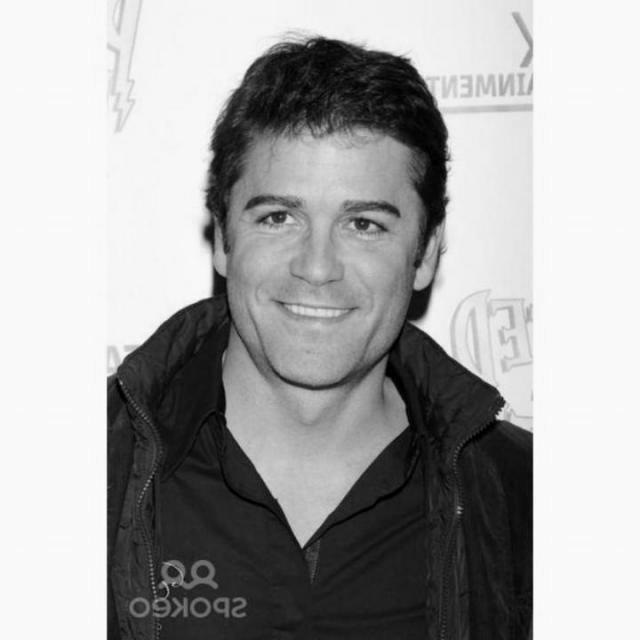real: (224, 146, 418, 386)
